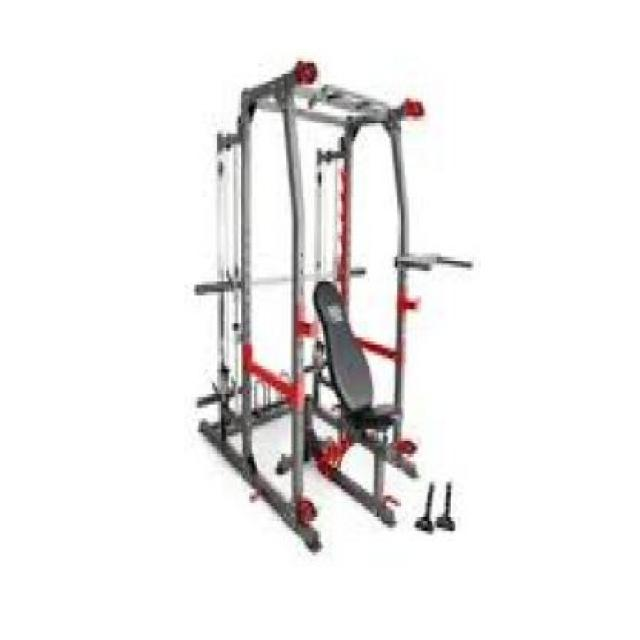smith machine: (194, 57, 472, 557)
